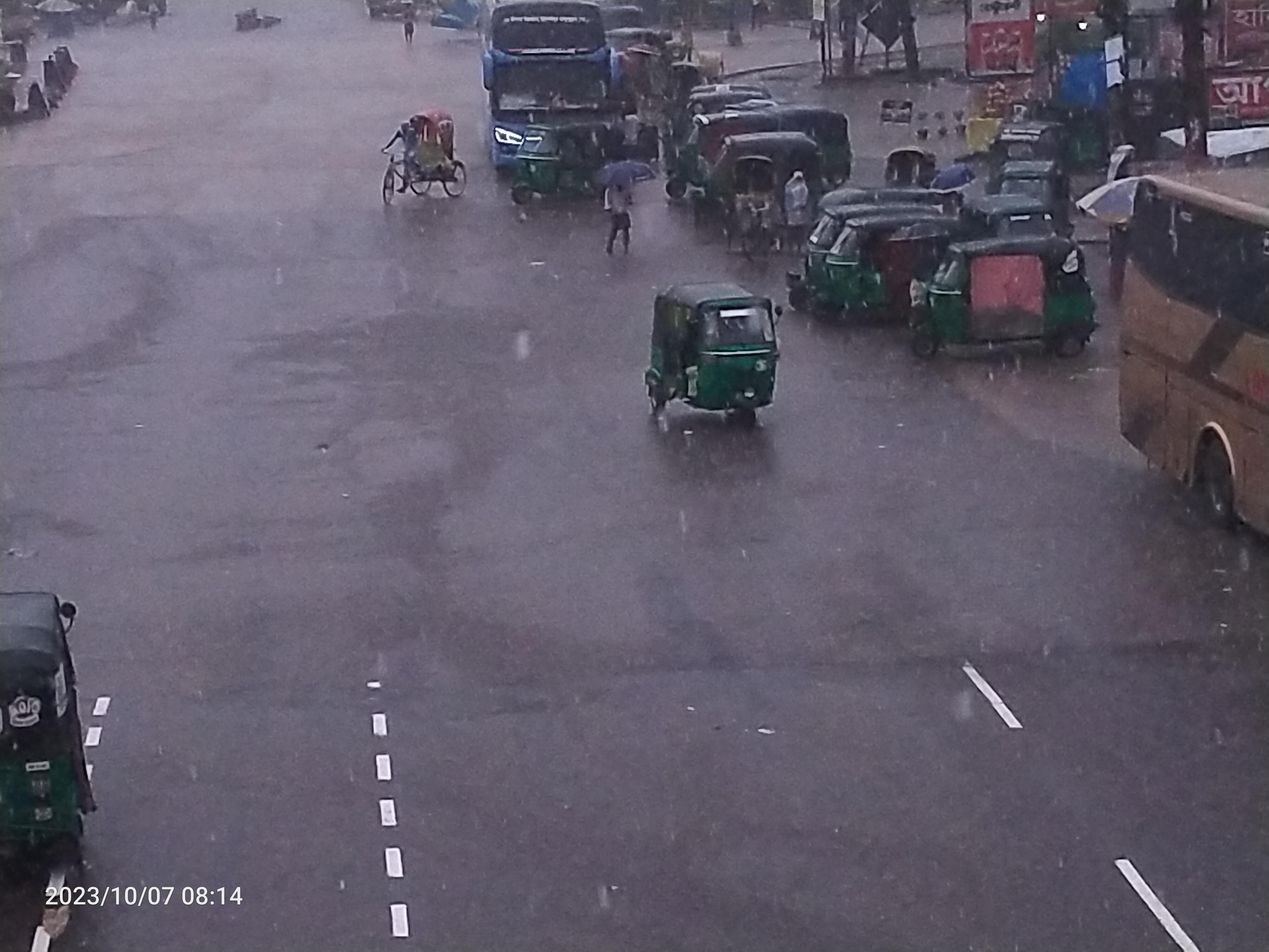Bus: (1112, 148, 1269, 544), (462, 3, 622, 176)
Car: (364, 105, 470, 225)
